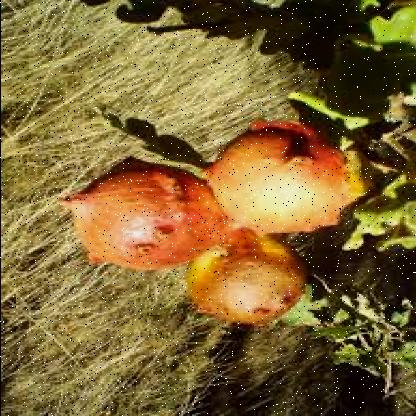damaged_apple: (68, 157, 220, 275), (210, 125, 350, 233), (189, 231, 307, 331)
